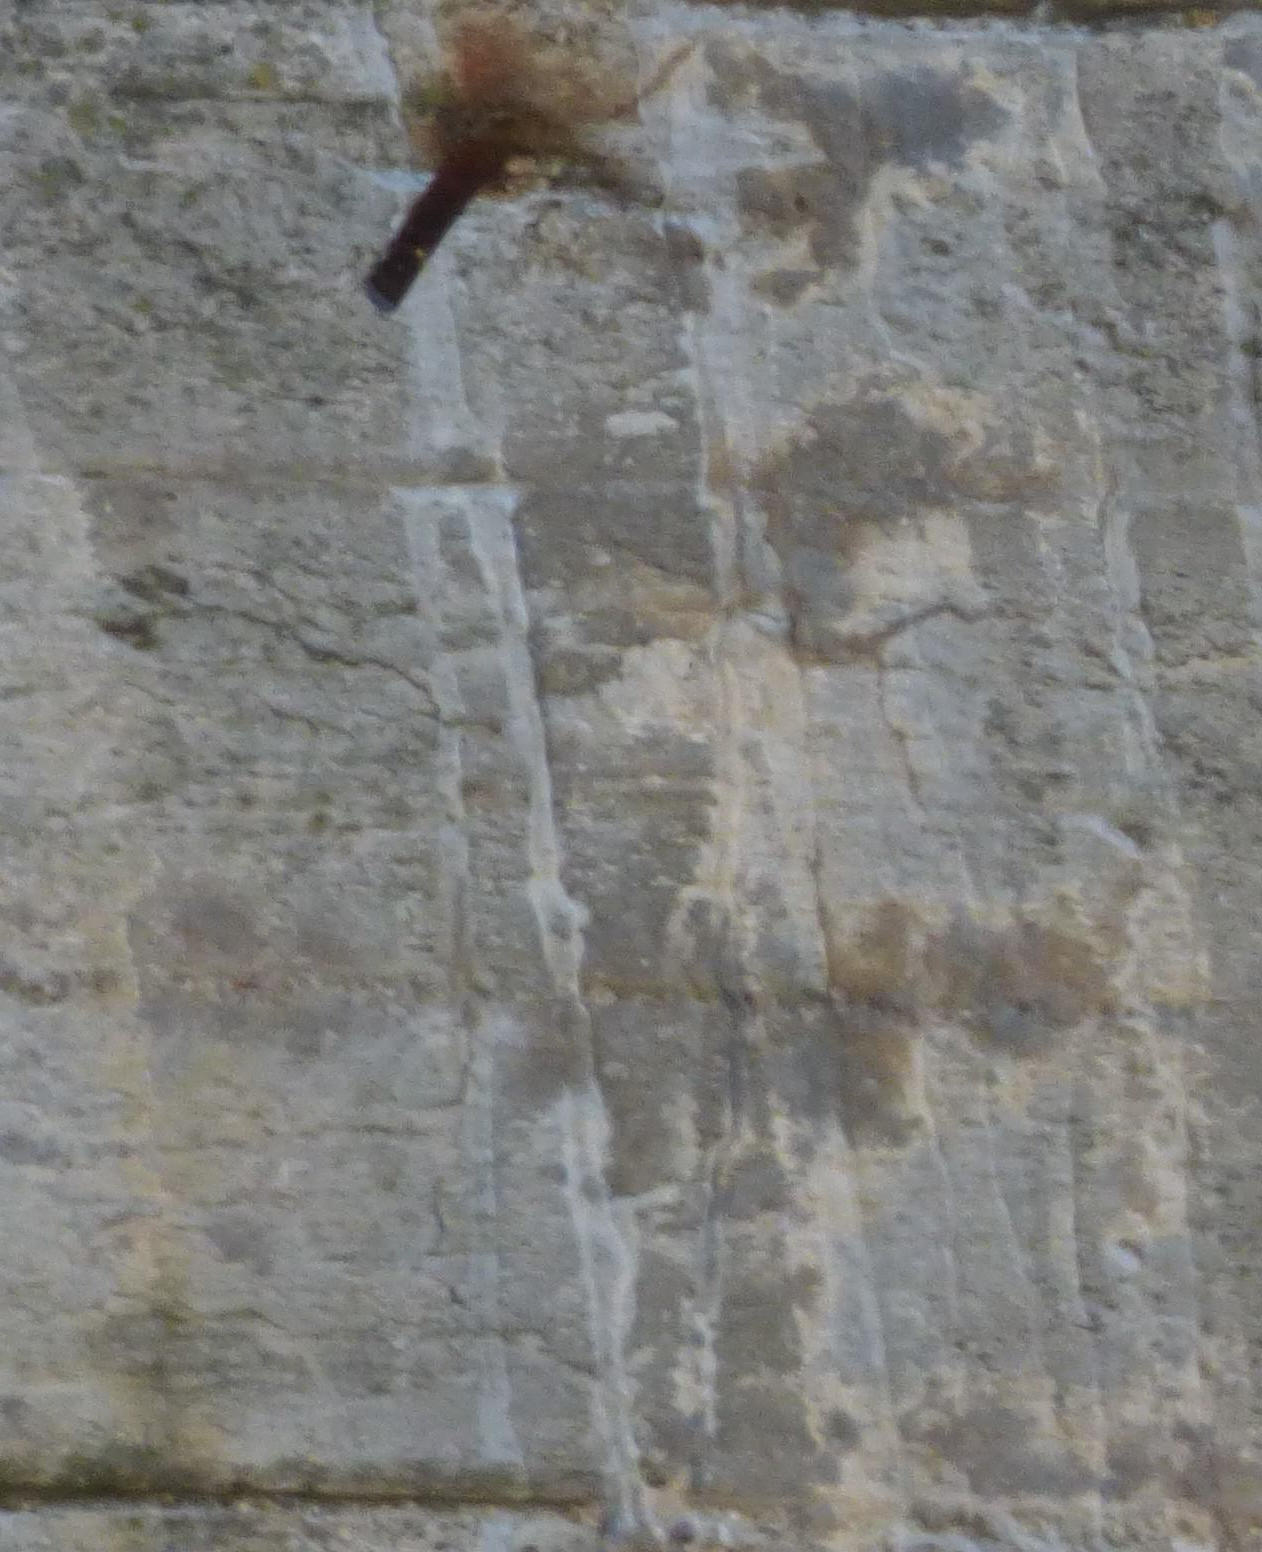Exposed reinforcement: (364, 155, 501, 312)
